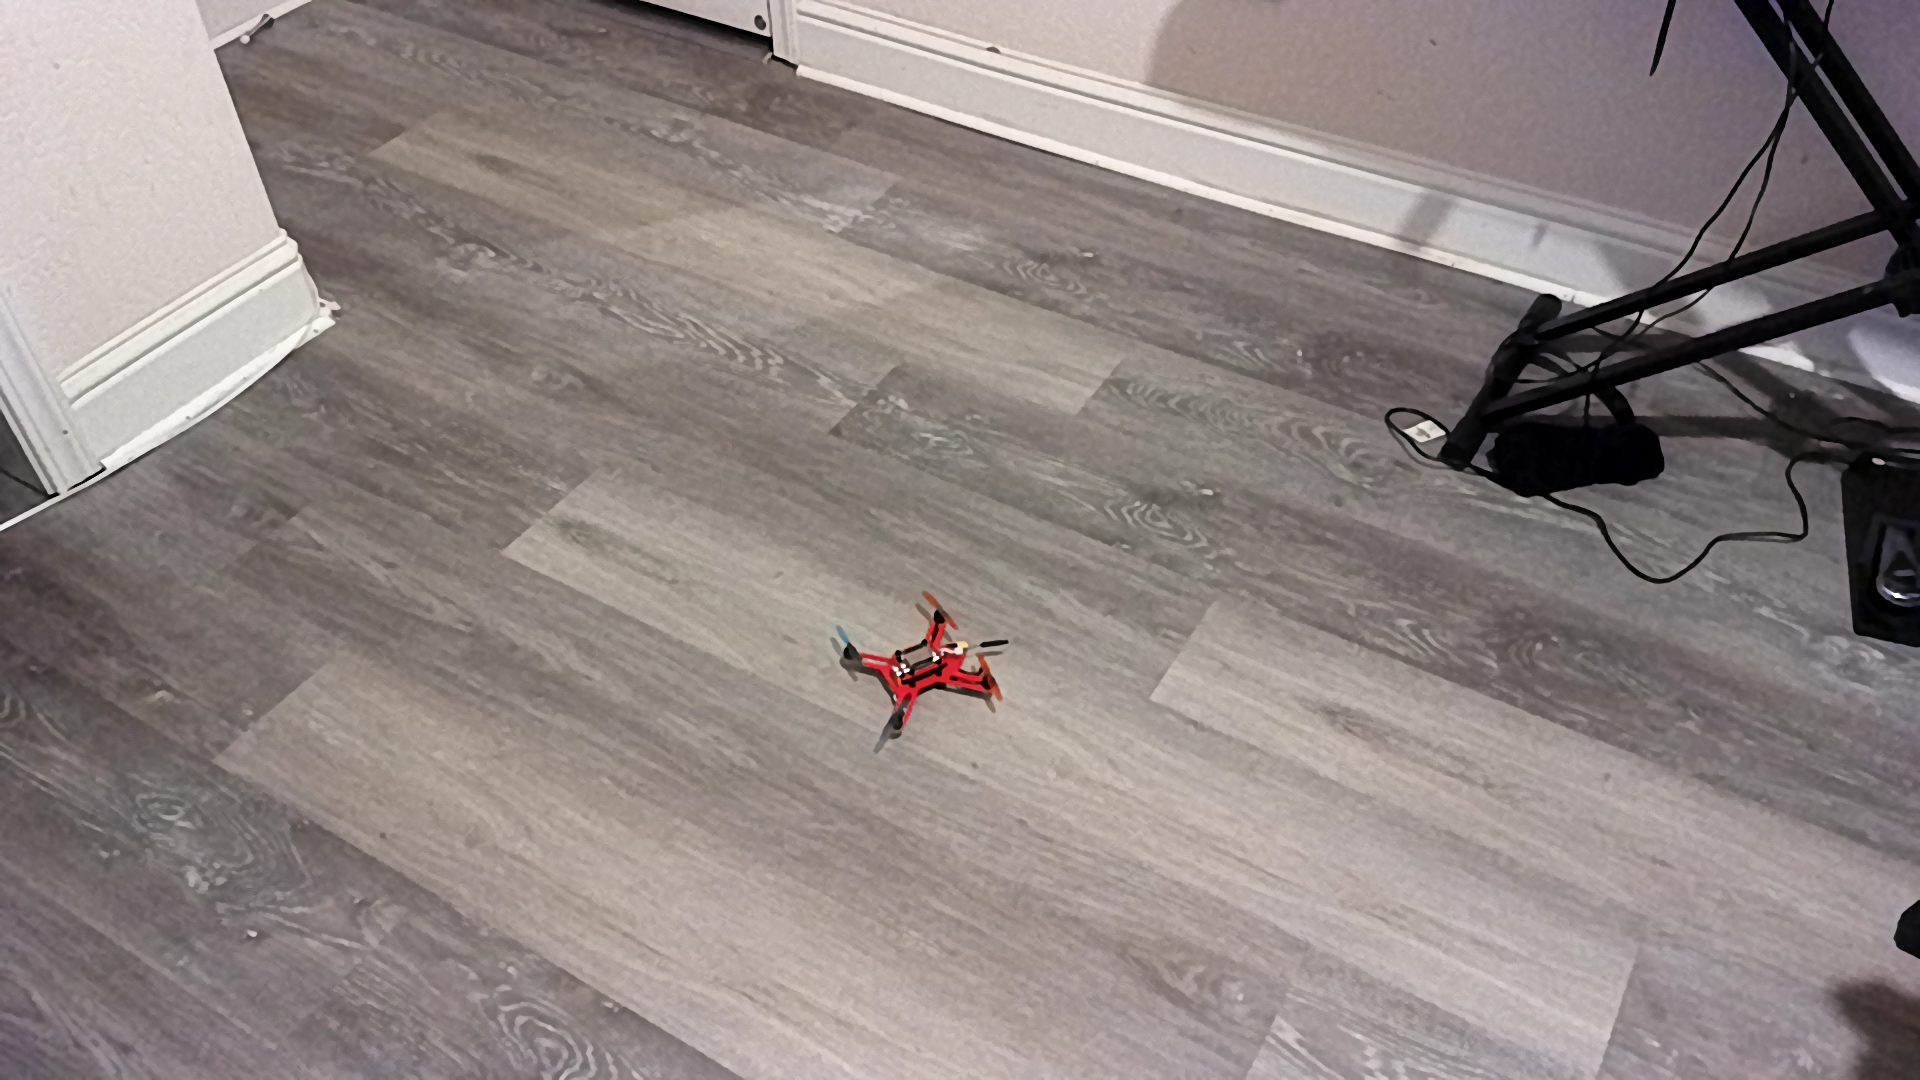drone: (832, 587, 1017, 764)
